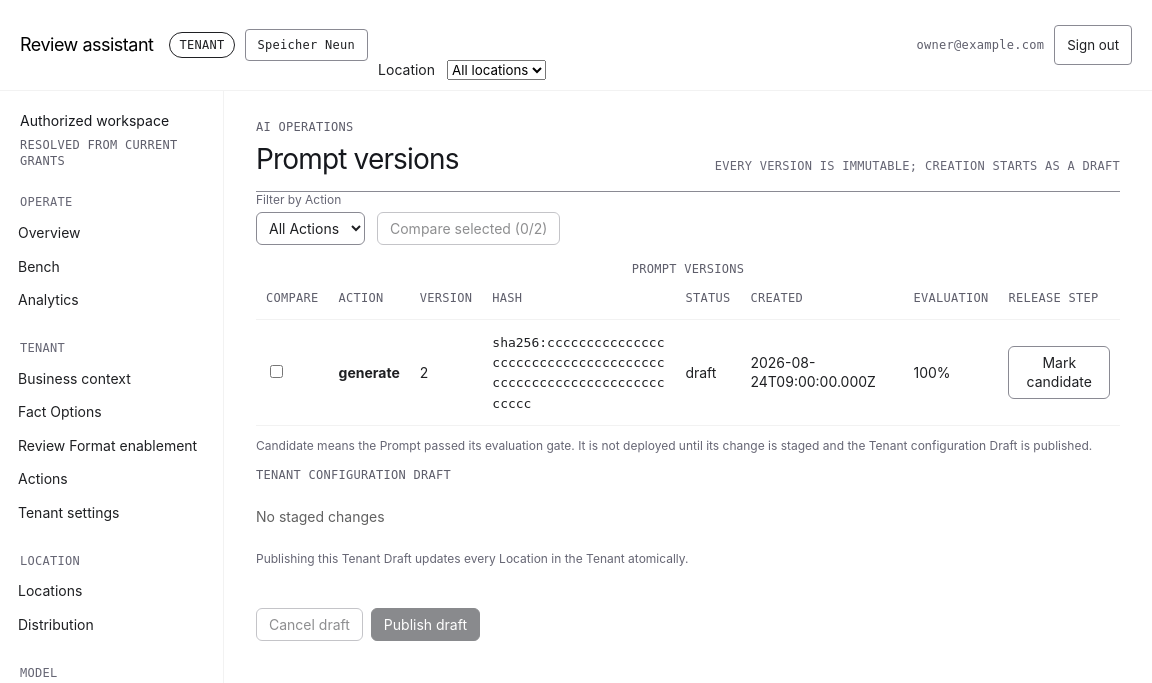
Test: Tenant and Location configuration Drafts › shows a candidacy rejection without claiming the Prompt was deployed
Click the button "Mark candidate". click: click(1059, 372)
box: x1=1008 y1=346 x2=1110 y2=399
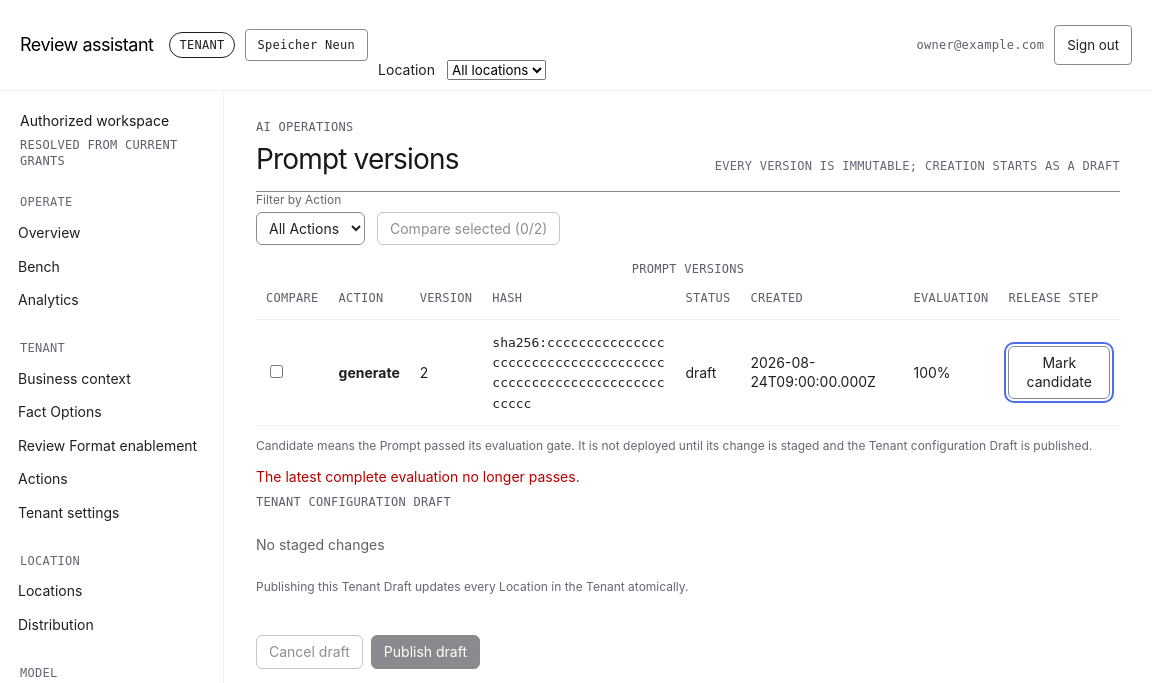
Result: the text "The latest complete evaluation no longer passes." is shown at x1=256 y1=468 x2=580 y2=484
